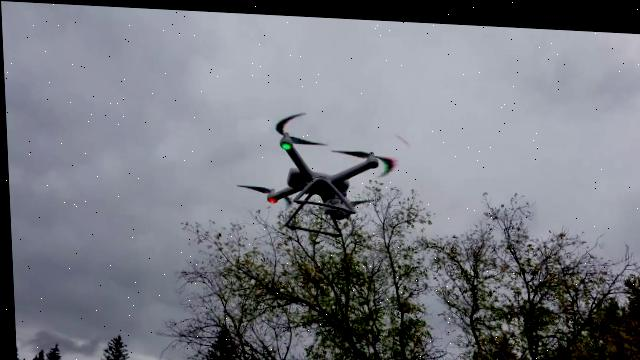drone: (8, 220, 640, 360)
